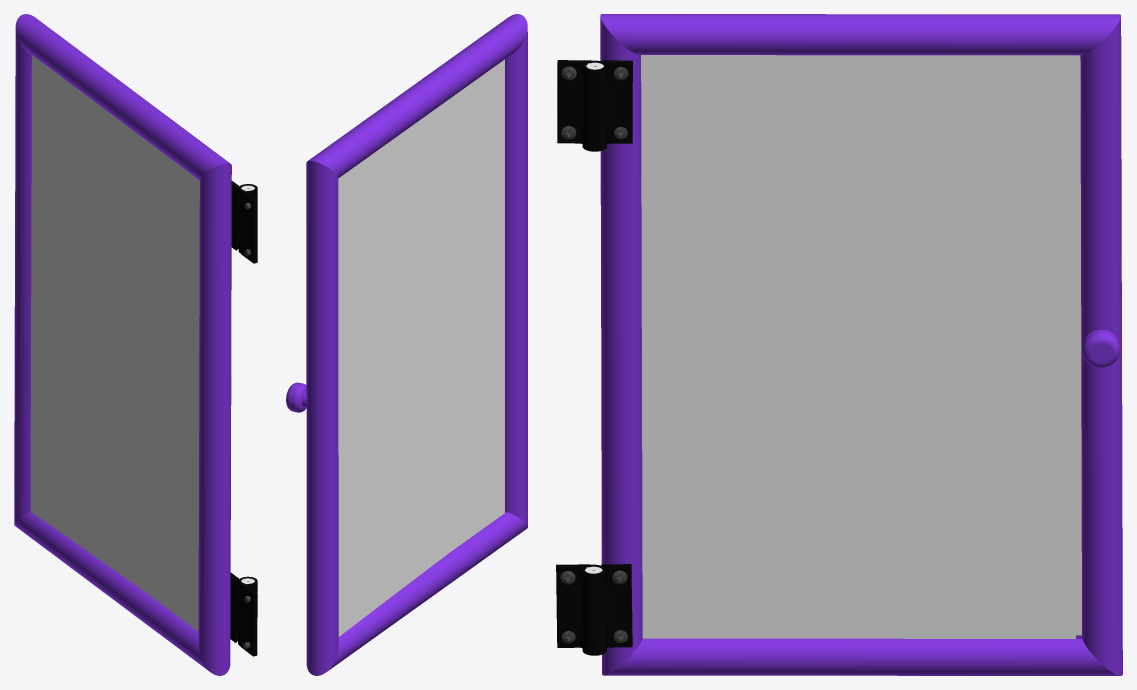
Rendered from door.glb.
3 renders of one model, left to right at view 1: azimuth 30°, elevation 25°; view 2: azimuth 150°, elevation 25°; view 3: azimuth 270°, elevation 25°, orthographic. The views are drawn at different scales.
Parts seen in each view (by area): view 1: opening_door.006, opening_door.003, opening_door.002, opening_door.001, opening_door.004, Ensemble-Lantern, Ensemble-Lantern.002, opening_door; view 2: opening_door.006, opening_door.002, opening_door.003, opening_door.001, opening_door.004, opening_door.005; view 3: opening_door.006, opening_door.002, opening_door.001, opening_door.003, opening_door.004, opening_door, Ensemble-Lantern, Ensemble-Lantern.002, opening_door.005.
Part boxes in pixels (<box>): opening_door.006: <box>30,55,199,631</box>; opening_door.003: <box>198,163,231,675</box>; opening_door.002: <box>14,30,31,522</box>; opening_door.001: <box>15,14,230,180</box>; opening_door.004: <box>14,511,209,671</box>; Ensemble-Lantern: <box>238,184,257,631</box>; Ensemble-Lantern.002: <box>238,576,257,656</box>; opening_door: <box>230,181,242,642</box>; opening_door.006: <box>338,59,504,636</box>; opening_door.002: <box>306,161,338,675</box>; opening_door.003: <box>505,31,527,526</box>; opening_door.001: <box>308,14,527,178</box>; opening_door.004: <box>327,512,527,671</box>; opening_door.005: <box>286,382,306,412</box>; opening_door.006: <box>641,55,1081,638</box>; opening_door.002: <box>1080,18,1122,675</box>; opening_door.001: <box>600,14,1120,55</box>; opening_door.003: <box>600,17,642,675</box>; opening_door.004: <box>605,635,1119,675</box>; opening_door: <box>581,60,632,647</box>; Ensemble-Lantern: <box>557,60,607,636</box>; Ensemble-Lantern.002: <box>556,564,606,655</box>; opening_door.005: <box>1082,329,1119,367</box>.
Size of the model in its own units: 7.05 by 71.31 by 55.55.
6 materials, 1 textured.
